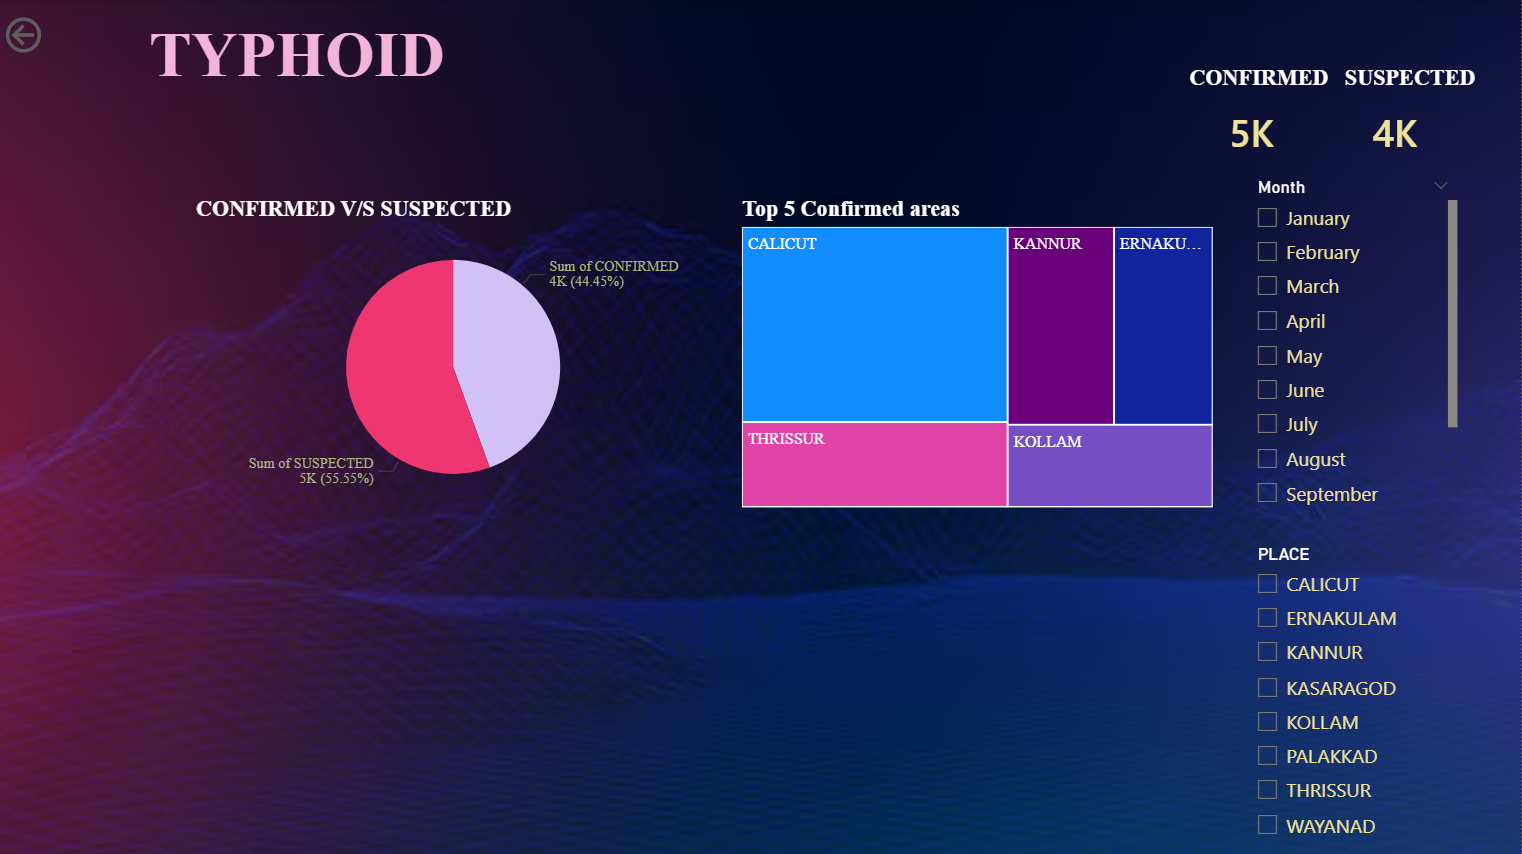

The page's visual inventory and layout, read from the dashboard file:
{"tool":"powerbi","page":{"name":"Typhoid","canvas":[1280,720],"ordinal":4},"visuals":[{"type":"cardVisual","fields":{"Data":["Sum(DISEASES.SUSPECTED)","Sum(DISEASES.CONFIRMED)"]},"box":[1004.7,30.2,267.4,161.6],"z":0},{"type":"actionButton","box":[0,10.5,100,39.5],"z":1},{"type":"textbox","box":[991.9,50,134.9,37.2],"z":2},{"type":"textbox","box":[1118.6,50,134.9,37.2],"z":3},{"type":"textbox","box":[100,11.6,300,77.9],"z":4},{"type":"slicer","fields":{"Values":["DISEASES.MONTH.Variation.Date Hierarchy.Month"]},"box":[1045.4,145.3,186,287.2],"z":5},{"type":"slicer","fields":{"Values":["DISEASES.PLACE"]},"box":[1045.4,453.5,186,266.3],"z":6},{"type":"treemap","title":"Top 5 Confirmed areas","fields":{"Group":["DISEASES.PLACE"],"Values":["Sum(DISEASES.CONFIRMED)"]},"box":[619.8,166.3,405.8,266.3],"z":7},{"type":"pieChart","title":"CONFIRMED V/S SUSPECTED","fields":{"Y":["Sum(DISEASES.CONFIRMED)","Sum(DISEASES.SUSPECTED)"]},"box":[159.3,166.3,443,266.3],"z":8}]}

Visuals, with their boxes in screenshot pixels (x1, y1, x2, y2), scaled from the page's 1280x720 canvas onto the 1522x854 screenshot:
cardVisual - Sum(DISEASES.SUSPECTED) x Sum(DISEASES.CONFIRMED): 1195,36,1513,227
actionButton: 0,12,119,59
textbox: 1179,59,1340,103
textbox: 1330,59,1490,103
textbox: 119,14,476,106
slicer - DISEASES.MONTH.Variation.Date Hierarchy.Month: 1243,172,1464,513
slicer - DISEASES.PLACE: 1243,538,1464,853
"Top 5 Confirmed areas" treemap: 737,197,1220,513
"CONFIRMED V/S SUSPECTED" pieChart: 189,197,716,513
